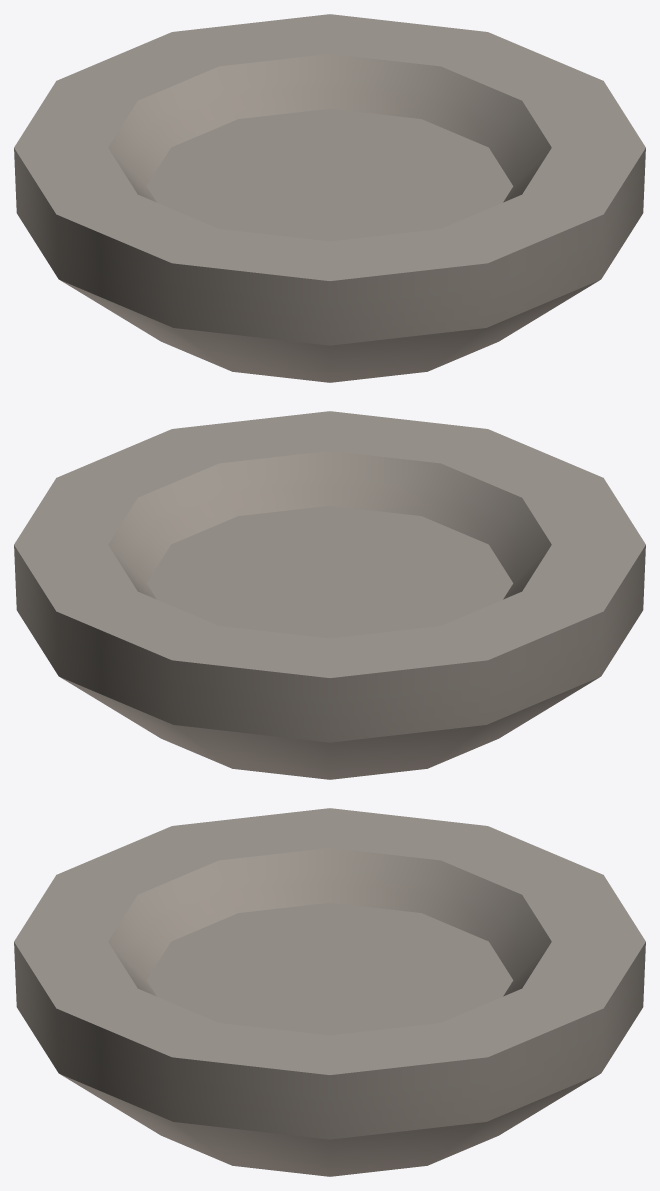
Rendered from plate_small.gltf.
The picture shows the model from 3 angles, top to bottom: view 1: azimuth 30°, elevation 25°; view 2: azimuth 150°, elevation 25°; view 3: azimuth 270°, elevation 25°; orthographic projection.
Visible parts, largest first — view 1: plate_small; view 2: plate_small; view 3: plate_small.
Boxes of the visible parts, x1,y1,x2,y2 form: plate_small: (14,14,645,382); plate_small: (14,411,645,779); plate_small: (14,808,645,1176).
Bounding box in the file's own units: 0.4853 × 0.1294 × 0.4853.
1 material, 1 textured.
